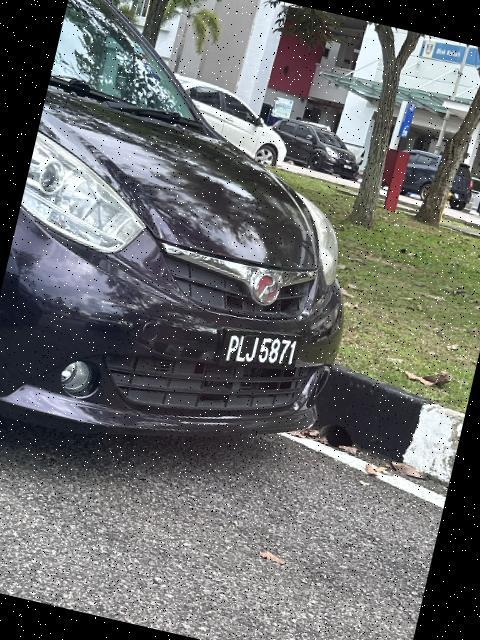License_Plate: (211, 315, 309, 388)
PLJ5871: (211, 315, 309, 388)
car: (1, 1, 411, 481)
